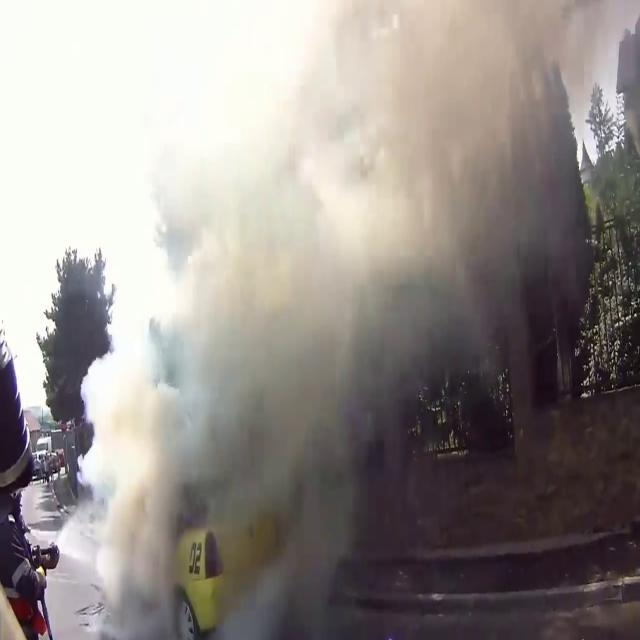Smoke: (49, 2, 632, 636)
